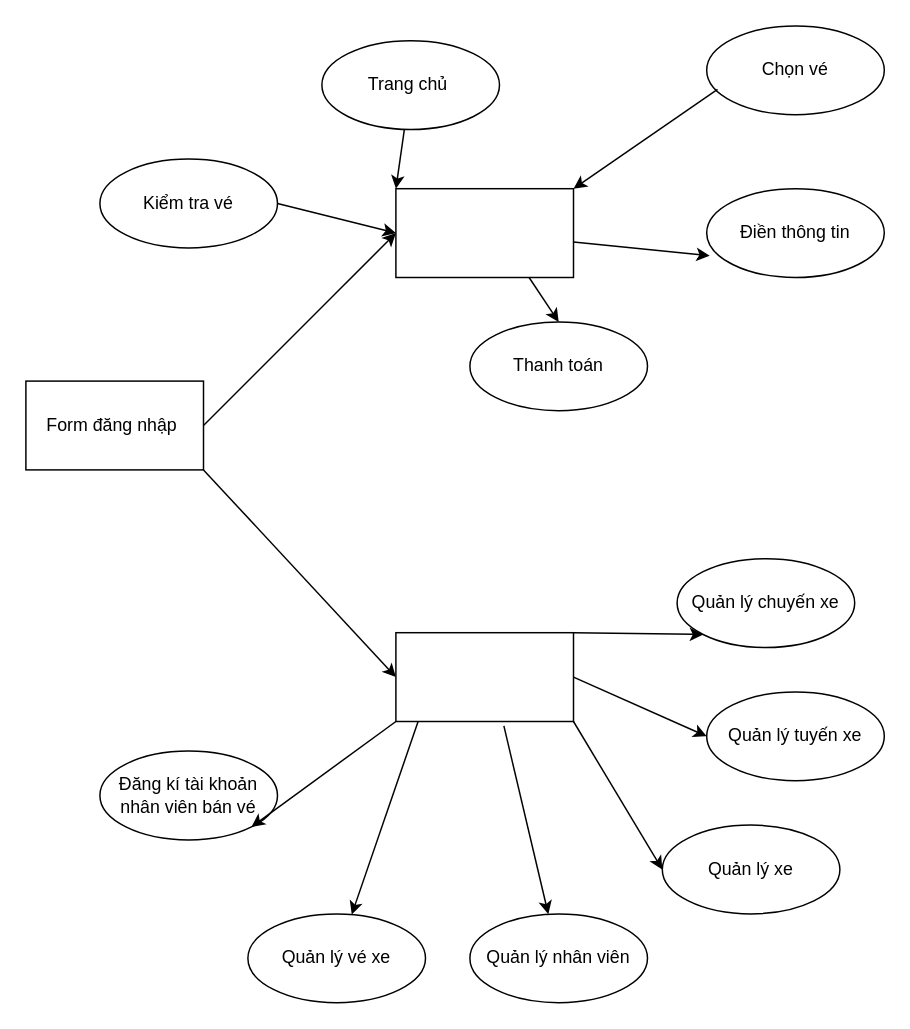
Image size: 910x1029. Some labels were removed from this diagram. Here are the shapes that lost their labels. From the top down, the box of each, then its label:
(394, 187, 574, 278): Đăng nhập vào form người đặt vé
(394, 631, 574, 722): Đăng nhập vào form quản trị viên
